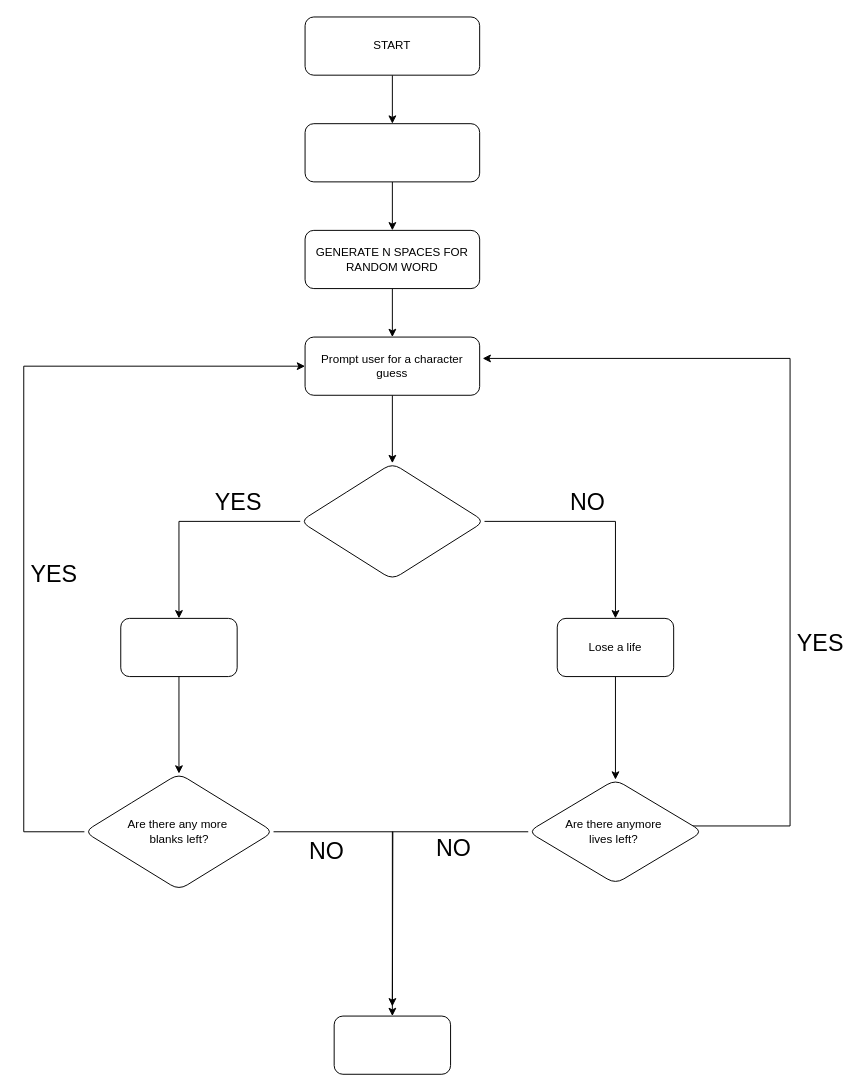
Some shapes in this 859 by 1091 pixel diagram are drawn without their labels. Each missing label, with the box of its shape:
GENERATE A RANDOM WORD: (304, 123, 480, 182)
Replace the blank Space: (120, 617, 237, 677)
Was user guess correct?: (299, 462, 485, 580)
